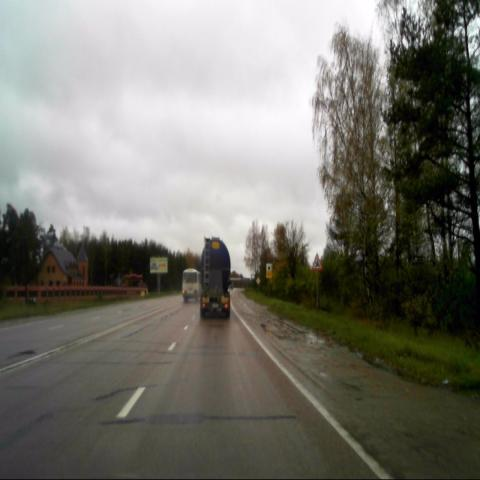1_30: (312, 252, 322, 272)
